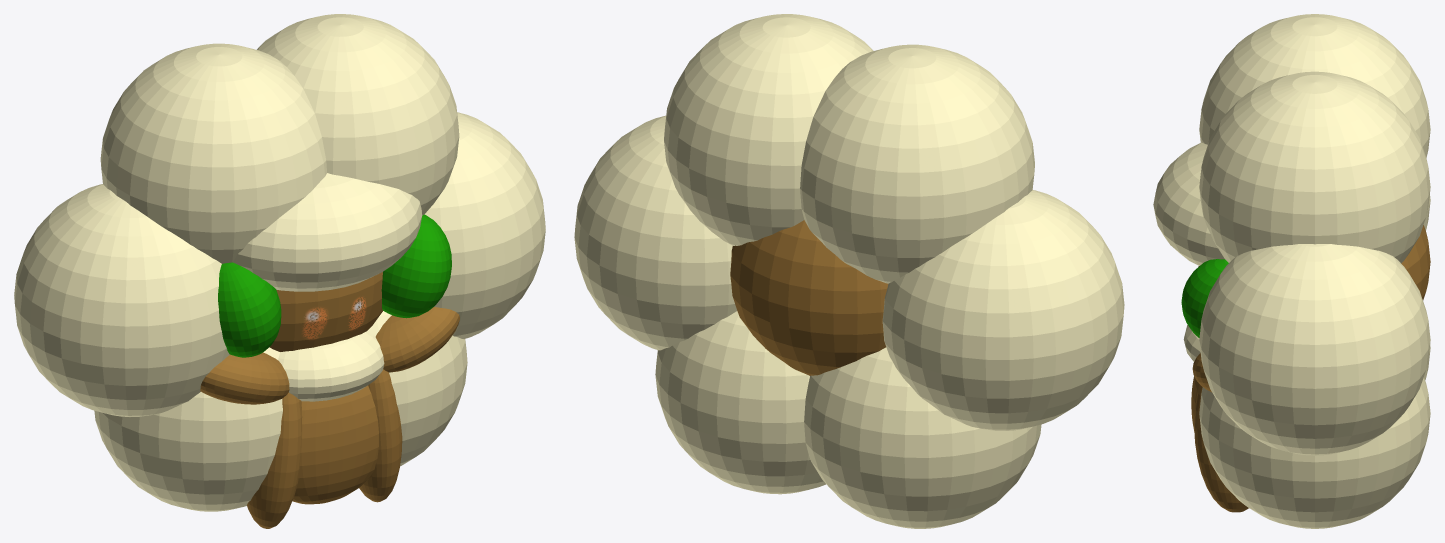
The model's file is Whimsicott-modified.fbx.
3 views of the same model, side by side, from view 1: azimuth 30°, elevation 25°; view 2: azimuth 150°, elevation 25°; view 3: azimuth 270°, elevation 25° (orthographic). The views are drawn at different scales.
Visible parts, largest first — view 1: 球.Cott1, 球.Cott2, 球.Cott3, 球.Cott4, 球.Ears, 球.Body, 球.Hand, 球.Leg, 球.Face, 球.Cott5; view 2: 球.Cott1, 球.Cott2, 球.Cott3, 球.Face; view 3: 球.Cott1, 球.Cott2, 球.Cott3, 球.Cott4, 球.Ears, 球.Leg, 球.Face, 球.Cott5, 球.Hand.
Part boxes in pixels (x1,y1,x2,y2): 球.Cott1: [100, 14, 459, 263]; 球.Cott2: [14, 112, 545, 416]; 球.Cott3: [94, 311, 467, 511]; 球.Cott4: [233, 173, 422, 291]; 球.Ears: [218, 214, 451, 357]; 球.Body: [292, 385, 378, 504]; 球.Hand: [200, 307, 459, 404]; 球.Leg: [247, 369, 402, 528]; 球.Face: [269, 272, 382, 351]; 球.Cott5: [278, 331, 384, 401]; 球.Cott1: [664, 14, 1034, 283]; 球.Cott2: [574, 115, 1124, 430]; 球.Cott3: [655, 311, 1041, 528]; 球.Face: [730, 220, 888, 375]; 球.Cott1: [1199, 14, 1430, 263]; 球.Cott2: [1199, 195, 1430, 455]; 球.Cott3: [1199, 344, 1430, 528]; 球.Cott4: [1153, 142, 1224, 265]; 球.Ears: [1181, 259, 1228, 337]; 球.Leg: [1194, 384, 1248, 512]; 球.Face: [1401, 225, 1430, 300]; 球.Cott5: [1183, 325, 1200, 361]; 球.Hand: [1192, 266, 1211, 392].
Bounding box in the file's own units: 486 × 412 × 240.
